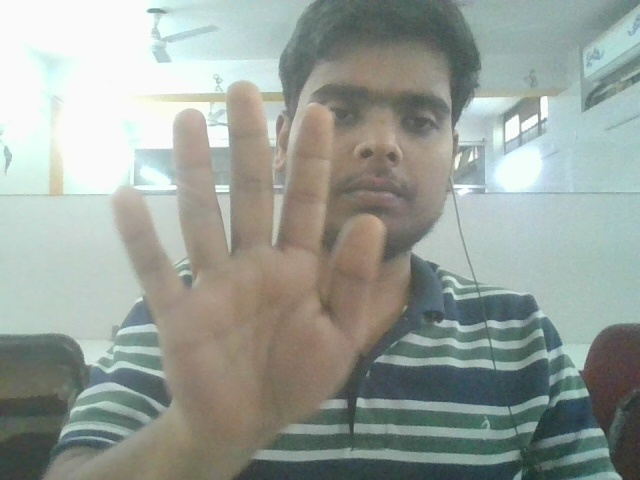Hello: (75, 60, 423, 446)
